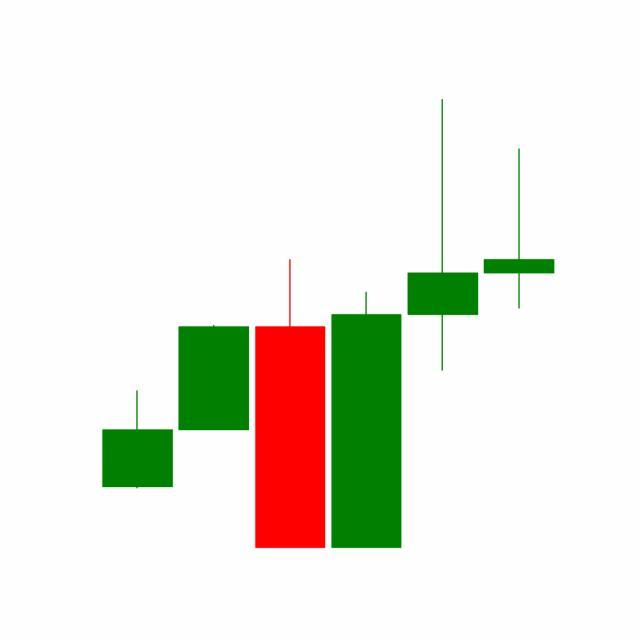Spinning Top: (404, 97, 482, 375)
